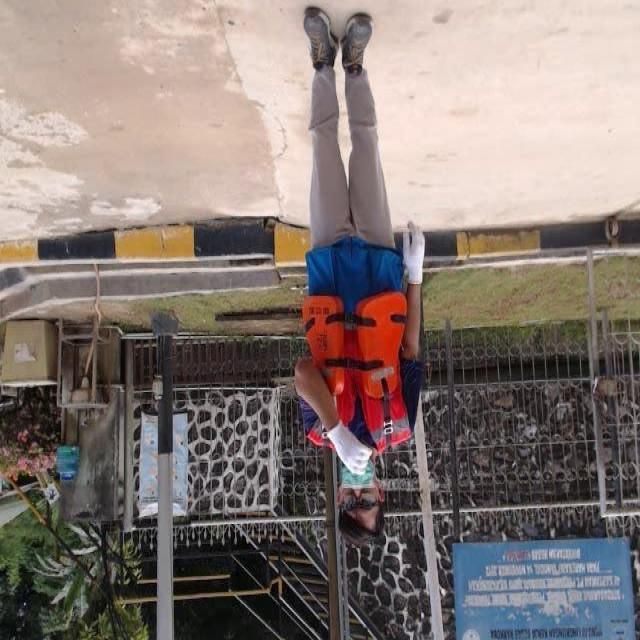jacket: (291, 287, 425, 471)
